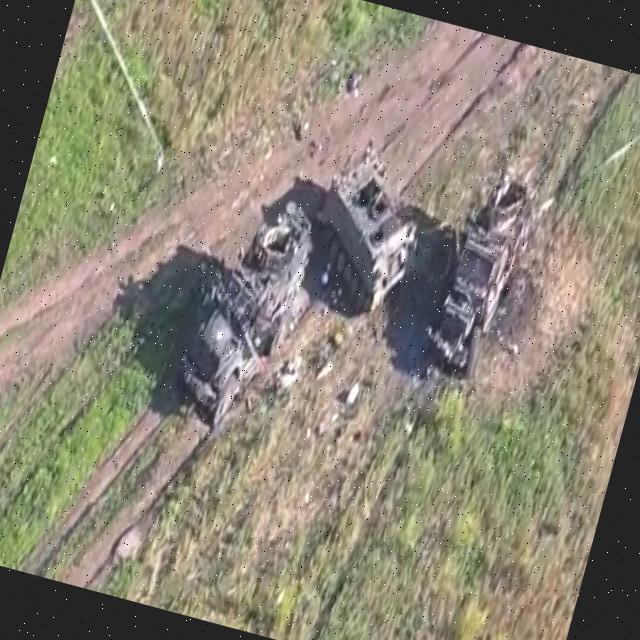APC: (298, 146, 440, 328)
Vehicle: (160, 180, 327, 446), (412, 158, 548, 387)
